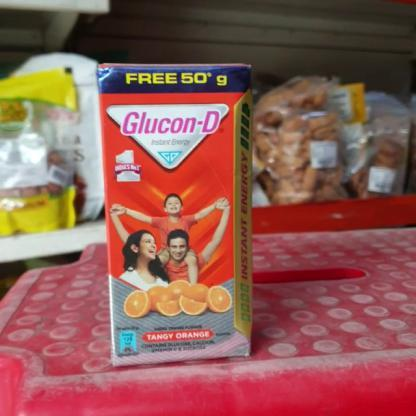Glucon D Tangy orange 1-KG: (106, 66, 243, 369)
